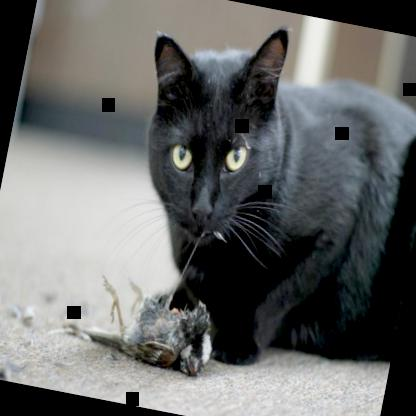cat: (96, 1, 415, 395)
